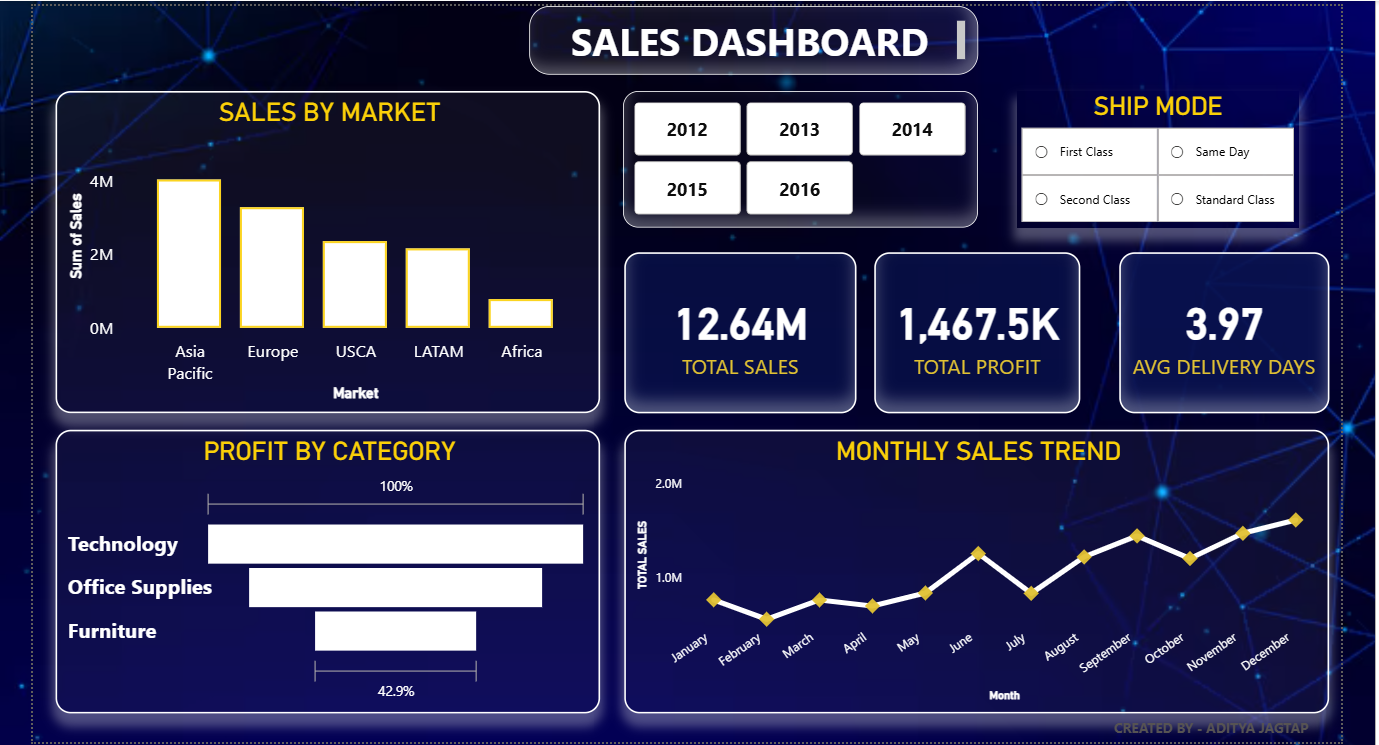

What the dashboard file says about the page in this screenshot:
{"tool":"powerbi","page":{"name":"Page 7","canvas":[1280,720],"ordinal":0},"visuals":[{"type":"textbox","box":[485.5,0,439,67.3],"z":0},{"type":"columnChart","title":"SALES BY MARKET","fields":{"Y":["Sum(Orders.Sales)"],"Category":["Orders.Market"]},"box":[22,83.2,533.2,315.5],"z":1000},{"type":"funnel","title":"PROFIT BY CATEGORY","fields":{"Y":["Sum(Orders.Profit)"],"Category":["Orders.Category"]},"box":[22,414.5,533.2,277.6],"z":2000},{"type":"lineChart","title":"MONTHLY SALES TREND","fields":{"Y":["Sum(Orders.Sales)"],"Category":["Orders.Ship Date.Variation.Date Hierarchy.Month"]},"box":[578.4,414.5,689.7,277.6],"z":3000},{"type":"card","fields":{"Values":["Sum(Orders.Sales)"]},"box":[578.4,240.9,227.4,157.7],"z":4000},{"type":"card","fields":{"Values":["Sum(Orders.Profit)"]},"box":[823,240.9,201.8,157.7],"z":5000},{"type":"card","fields":{"Values":["Avg(Orders.AVG DELIVERY DAYS)"]},"box":[1062.6,240.9,205.4,157.7],"z":6000},{"type":"advancedSlicerVisual","fields":{"Values":["Orders.Ship Date.Variation.Date Hierarchy.Year"]},"box":[577.2,83.2,347.3,133.3],"z":7000},{"type":"advancedSlicerVisual","title":"SHIP MODE","fields":{"Values":["Orders.Ship Mode"]},"box":[962.4,83.2,276.4,133.3],"z":8000},{"type":"textbox","box":[1024.7,692.1,255.6,28.1],"z":9000}]}

Visuals, with their boxes in screenshot pixels (x1, y1, x2, y2):
textbox: crop(527, 4, 974, 72)
"SALES BY MARKET" columnChart: crop(55, 88, 598, 410)
"PROFIT BY CATEGORY" funnel: crop(55, 426, 598, 708)
"MONTHLY SALES TREND" lineChart: crop(621, 426, 1323, 708)
card - Sum(Orders.Sales): crop(621, 249, 853, 409)
card - Sum(Orders.Profit): crop(870, 249, 1076, 409)
card - Avg(Orders.AVG DELIVERY DAYS): crop(1114, 249, 1323, 409)
advancedSlicerVisual - Orders.Ship Date.Variation.Date Hierarchy.Year: crop(620, 88, 974, 224)
"SHIP MODE" advancedSlicerVisual: crop(1012, 88, 1294, 224)
textbox: crop(1076, 708, 1336, 737)
